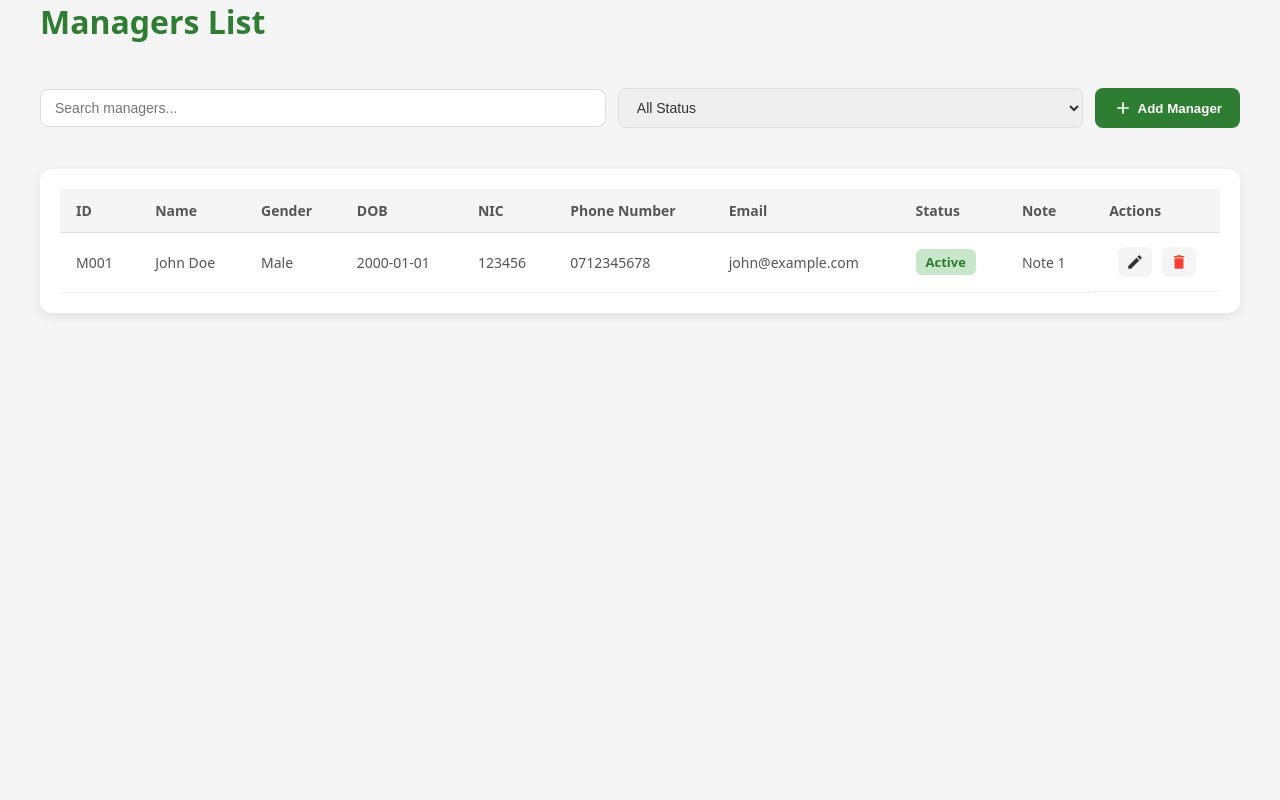
Scenario: ManagersList › opens edit modal
Expected: the text "John Doe" is shown, [139,232,245,292]
Click the button named "edit manager" at (1135,262), box [1118,247,1152,277]
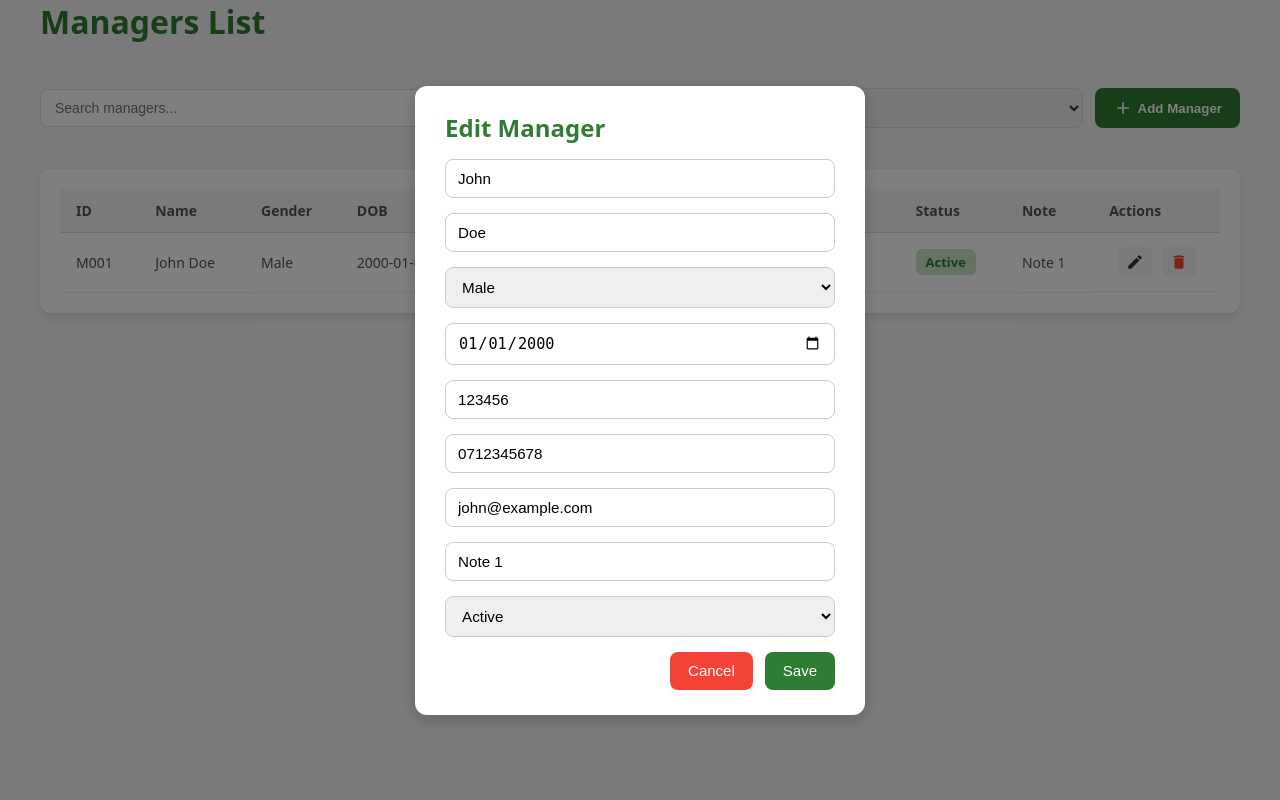
Expected: the 1st field showing "John" is shown, [445,158,835,198]
